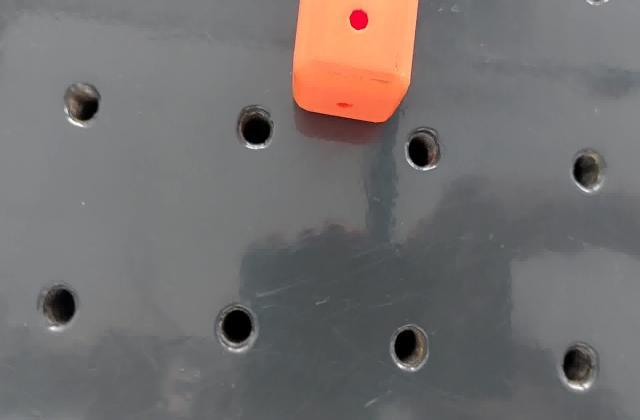cube: (290, 0, 420, 126)
